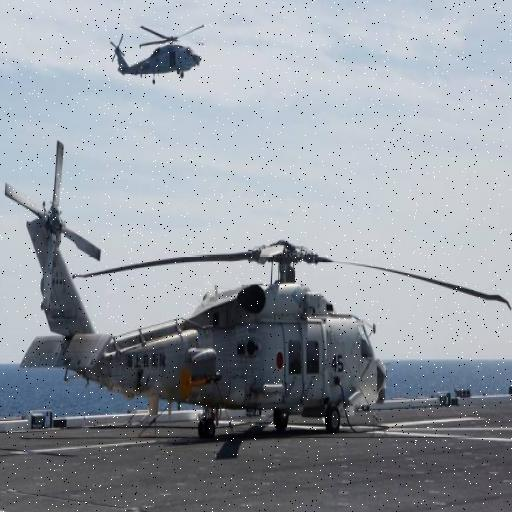helicopter: (6, 135, 495, 462), (104, 13, 215, 97)
